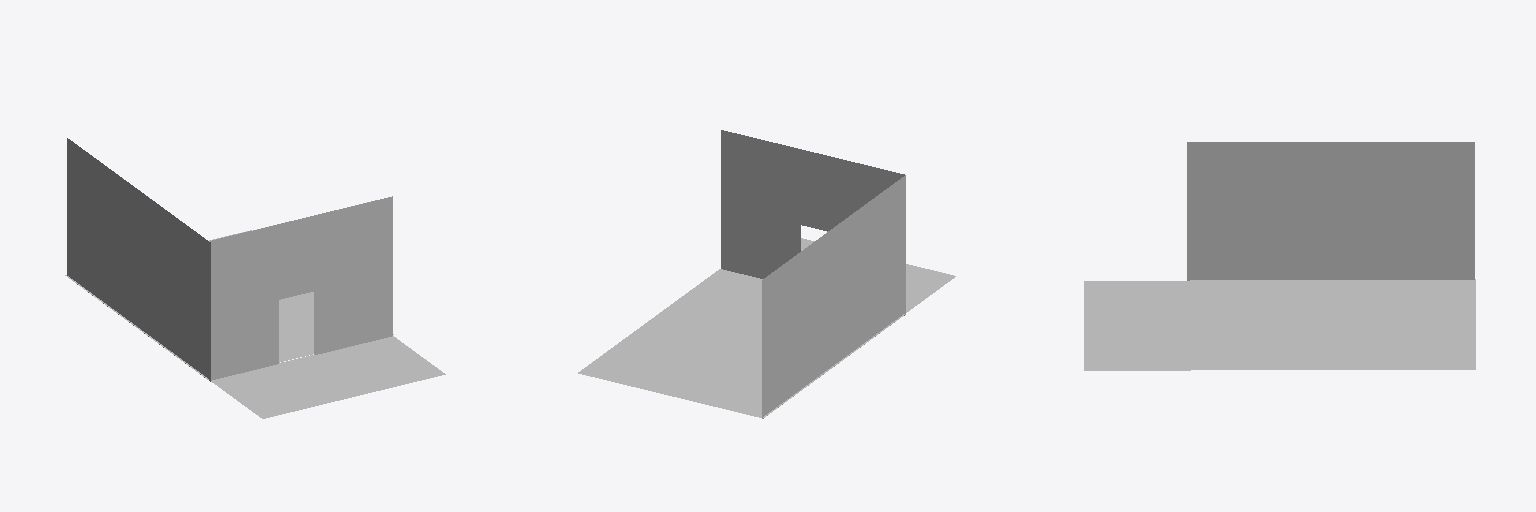
File: walls.obj
The picture shows the model from 3 angles: view 1: azimuth 30°, elevation 25°; view 2: azimuth 150°, elevation 25°; view 3: azimuth 270°, elevation 25°; orthographic projection.
Visible parts, largest first — view 1: Plane.003, Plane.008, Plane.004, Plane.007_Plane.009; view 2: Plane.008, Plane.007_Plane.009, Plane.003, Plane.004; view 3: Plane.008, Plane.007_Plane.009, Plane.004.
Boxes of the visible parts, x1,y1,x2,y2 form: Plane.003: [210, 196, 392, 380]; Plane.008: [67, 138, 210, 381]; Plane.004: [211, 336, 445, 418]; Plane.007_Plane.009: [65, 230, 393, 379]; Plane.008: [762, 175, 905, 418]; Plane.007_Plane.009: [578, 269, 904, 417]; Plane.003: [721, 130, 904, 315]; Plane.004: [801, 238, 955, 312]; Plane.008: [1187, 142, 1474, 280]; Plane.007_Plane.009: [1190, 279, 1475, 369]; Plane.004: [1084, 281, 1190, 370].
Size of the model in its own units: 12.84 by 9.32 by 23.4.